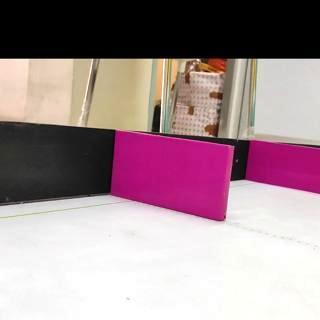xparking: (119, 144, 227, 212), (256, 148, 320, 192)
